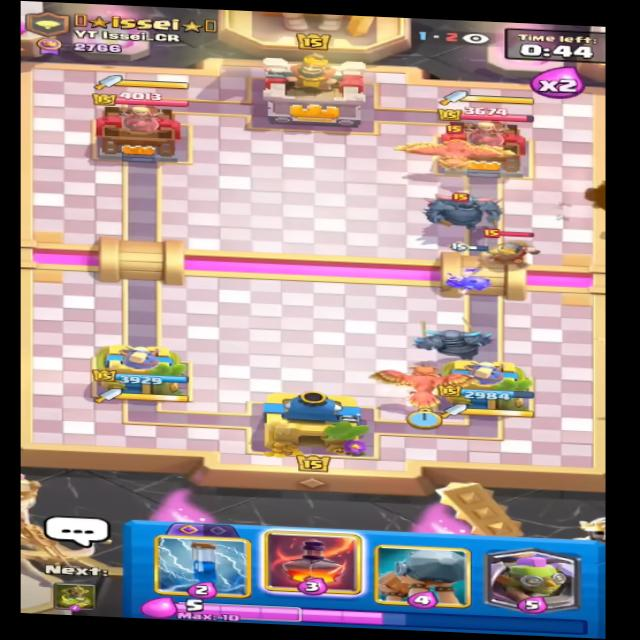knight: (477, 224, 546, 267)
pekka: (418, 183, 509, 229)
phoenix: (390, 125, 520, 174)
